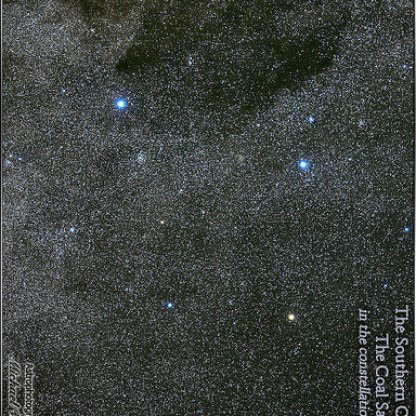Southern Cross: (274, 301, 303, 332), (110, 88, 131, 126), (289, 148, 309, 176), (163, 290, 184, 315)
